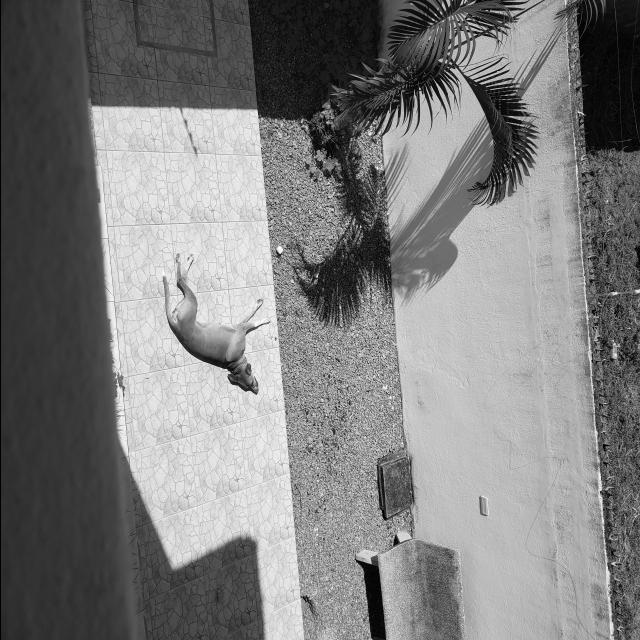laying down: (160, 248, 274, 400)
